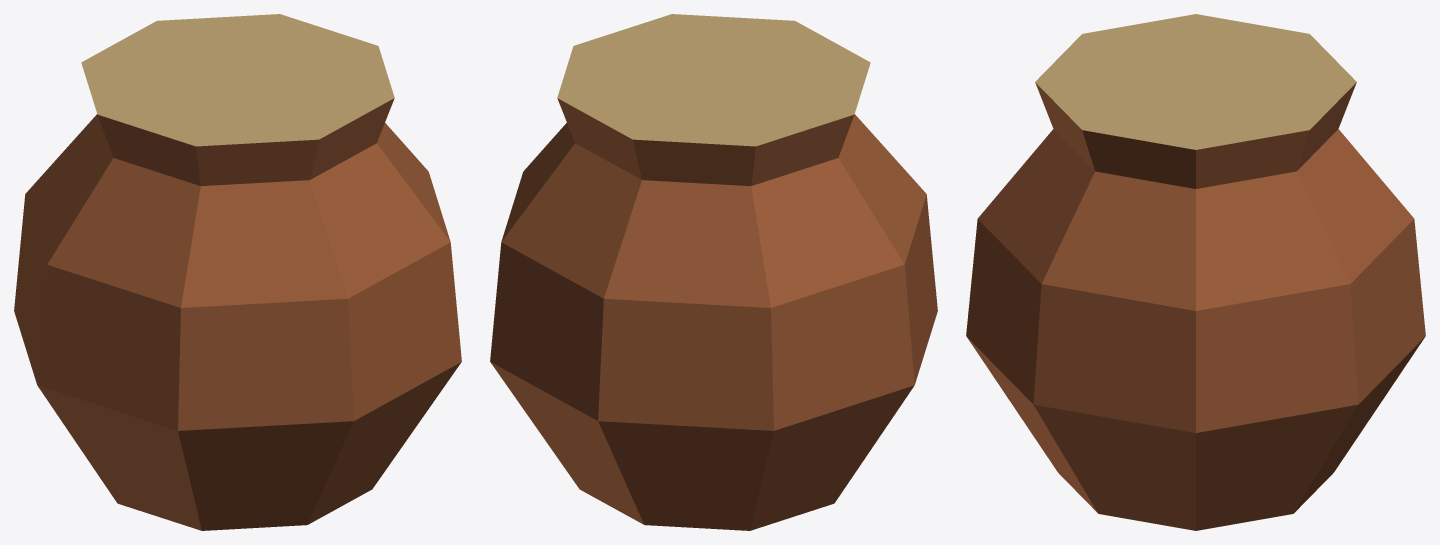
The model's file is w3d_item_porridge_s.glb.
3 renders of one model, left to right at view 1: azimuth 30°, elevation 25°; view 2: azimuth 150°, elevation 25°; view 3: azimuth 270°, elevation 25°, orthographic.
Parts seen in each view (by area): view 1: item_023_porridge_s; view 2: item_023_porridge_s; view 3: item_023_porridge_s.
Boxes of the visible parts, x1,y1,x2,y2 form: item_023_porridge_s: (14, 14, 461, 530); item_023_porridge_s: (490, 14, 937, 530); item_023_porridge_s: (966, 14, 1425, 530).
Bounding box in the file's own units: 0.32 × 0.3 × 0.32.
